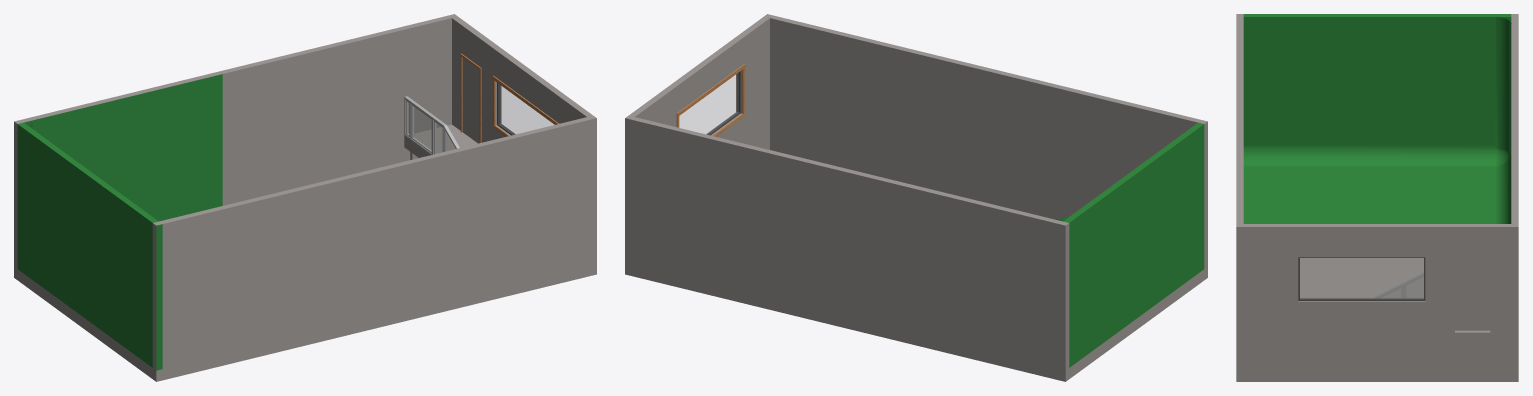
File: mmad_lab_full_scale.fbx
The picture shows the model from 3 angles, left to right: view 1: azimuth 30°, elevation 25°; view 2: azimuth 150°, elevation 25°; view 3: azimuth 270°, elevation 25°; orthographic projection.
Parts seen in each view (by area): view 1: wall_long_002, wall_long_001, wall_short_001, wall_short_006, floor_001, main_window_glass_001, door_001, stair_window_panes, stair_windows_001, stairs_001, main_window_molding_001, main_door_molding_001; view 2: wall_long_001, wall_long_002, wall_short_001, wall_short_006, floor_001, main_window_glass_001, main_window_molding_001; view 3: wall_short_001, wall_short_006, floor_001, pSphere1, main_window_glass_001, wall_long_001, wall_long_002, door_001, wall_rounding_001, main_window_glass_frame_001, wall_rounding_002, stair_windows_001 (+1 smaller).
Boxes of the visible parts, <box> form: wall_long_002: <box>152,115,596,370</box>; wall_long_001: <box>14,14,457,268</box>; wall_short_001: <box>17,122,162,370</box>; wall_short_006: <box>452,16,596,264</box>; floor_001: <box>14,263,596,381</box>; main_window_glass_001: <box>499,85,553,134</box>; door_001: <box>462,58,479,143</box>; stair_window_panes: <box>404,96,459,154</box>; stair_windows_001: <box>407,102,455,153</box>; stairs_001: <box>414,124,477,153</box>; main_window_molding_001: <box>492,75,558,136</box>; main_door_molding_001: <box>460,53,481,143</box>; wall_long_001: <box>625,115,1069,370</box>; wall_long_002: <box>764,14,1207,268</box>; wall_short_001: <box>1063,122,1204,367</box>; wall_short_006: <box>629,16,769,149</box>; floor_001: <box>625,263,1207,381</box>; main_window_glass_001: <box>679,73,738,134</box>; main_window_molding_001: <box>676,64,745,136</box>; wall_short_001: <box>1243,14,1511,144</box>; wall_short_006: <box>1243,224,1511,370</box>; floor_001: <box>1236,167,1518,381</box>; pSphere1: <box>1243,17,1511,223</box>; main_window_glass_001: <box>1300,258,1423,298</box>; wall_long_001: <box>1511,14,1518,370</box>; wall_long_002: <box>1236,14,1243,370</box>; door_001: <box>1455,257,1490,330</box>; wall_rounding_001: <box>1243,145,1495,167</box>; main_window_glass_frame_001: <box>1298,257,1425,300</box>; wall_rounding_002: <box>1495,154,1511,223</box>; stair_windows_001: <box>1383,277,1423,297</box>.
Size of the model in its own units: 512 by 174 by 286.
Materials: 7 (3 with a texture image).
